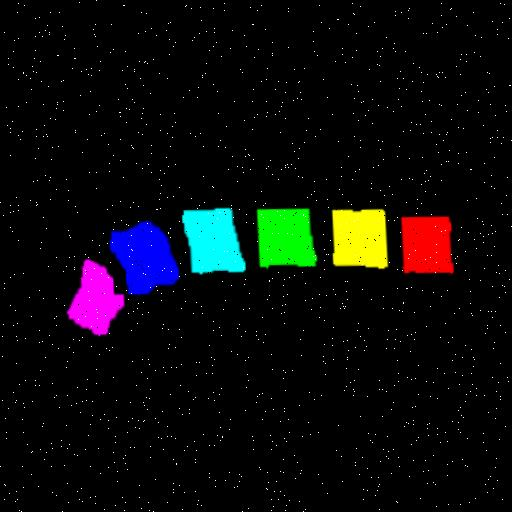L1: (399, 214, 451, 271)
L2: (330, 208, 384, 265)
L3: (255, 207, 314, 265)
L4: (181, 207, 243, 271)
L5: (109, 221, 176, 293)
S1: (66, 259, 122, 334)
